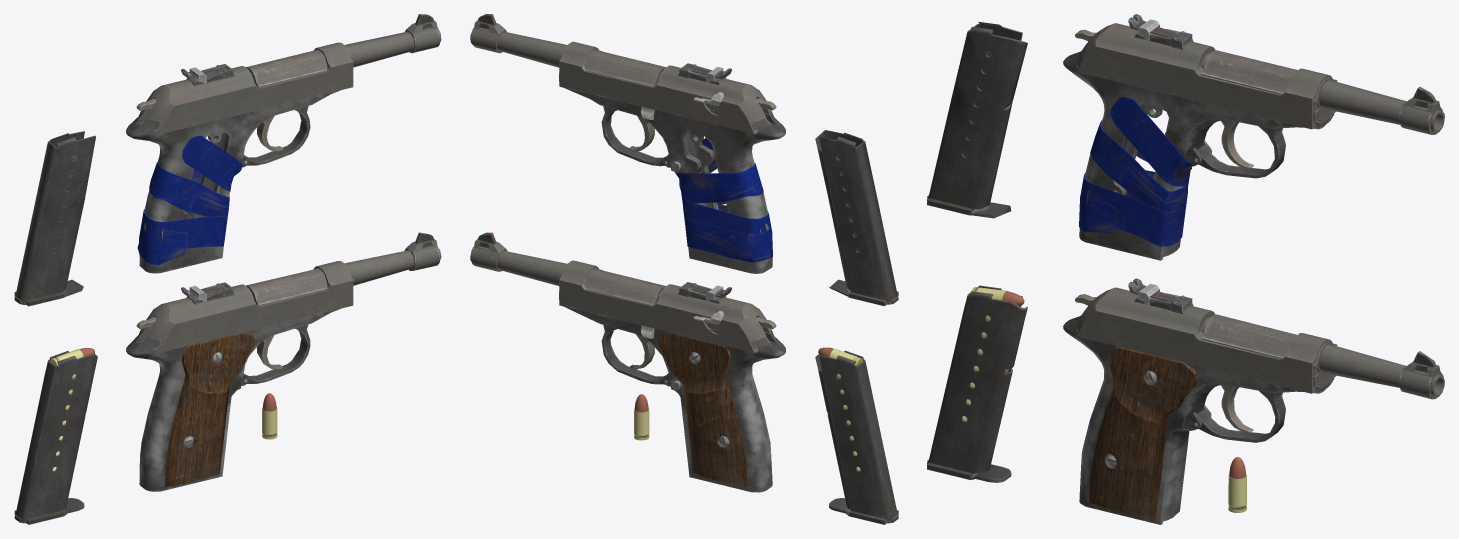
Rendered from service_pistol.glb.
3 views of the same model, side by side, from view 1: azimuth 30°, elevation 25°; view 2: azimuth 150°, elevation 25°; view 3: azimuth 330°, elevation 25° (orthographic). The views are drawn at different scales.
Parts seen in each view (by area): view 1: service_pistol_pistol_b, service_pistol_pistol_a, service_pistol_magazine_loaded, service_pistol_magazine_empty, service_pistol_slide_a, service_pistol_slide_b, service_pistol_bullet; view 2: service_pistol_pistol_b, service_pistol_pistol_a, service_pistol_magazine_loaded, service_pistol_magazine_empty, service_pistol_slide_a, service_pistol_slide_b, service_pistol_bullet; view 3: service_pistol_pistol_a, service_pistol_pistol_b, service_pistol_magazine_loaded, service_pistol_magazine_empty, service_pistol_slide_a, service_pistol_slide_b, service_pistol_bullet, service_pistol_trigger_b, service_pistol_trigger_a.
Boxes of the visible parts, box(x1,y1,x2,y2) form: service_pistol_pistol_b: box(126, 14, 441, 273); service_pistol_pistol_a: box(126, 232, 441, 491); service_pistol_magazine_loaded: box(14, 348, 97, 524); service_pistol_magazine_empty: box(14, 131, 95, 306); service_pistol_slide_a: box(141, 261, 353, 352); service_pistol_slide_b: box(141, 42, 353, 134); service_pistol_bullet: box(262, 393, 277, 439); service_pistol_pistol_b: box(470, 14, 785, 273); service_pistol_pistol_a: box(470, 232, 785, 492); service_pistol_magazine_loaded: box(815, 347, 898, 524); service_pistol_magazine_empty: box(815, 130, 898, 306); service_pistol_slide_a: box(559, 260, 773, 352); service_pistol_slide_b: box(559, 41, 773, 133); service_pistol_bullet: box(634, 394, 649, 440); service_pistol_pistol_a: box(1063, 314, 1444, 524); service_pistol_pistol_b: box(1063, 50, 1444, 260); service_pistol_magazine_loaded: box(927, 285, 1027, 482); service_pistol_magazine_empty: box(927, 21, 1027, 218); service_pistol_slide_a: box(1076, 278, 1337, 393); service_pistol_slide_b: box(1076, 14, 1337, 129); service_pistol_bullet: box(1228, 457, 1246, 512); service_pistol_trigger_b: box(1221, 119, 1253, 169); service_pistol_trigger_a: box(1221, 384, 1253, 433).
Size of the model in its own units: 0.3016 by 0.2807 by 0.0318.
1 material, 1 textured.
